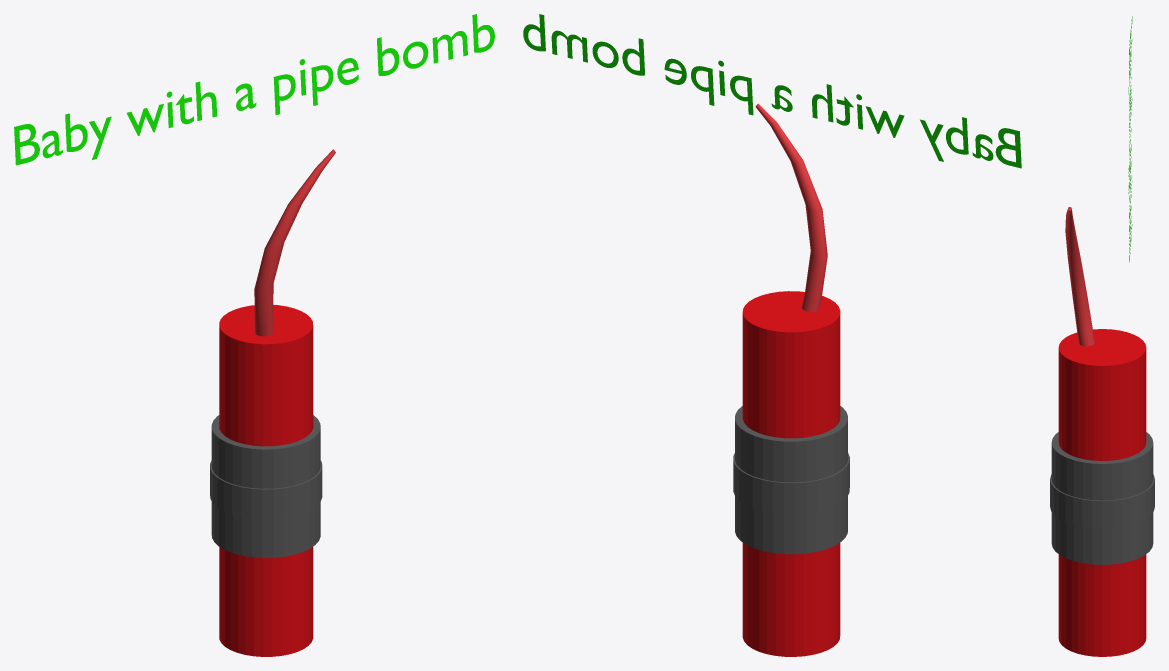
Rendered from pipebomb.fbx.
3 renders of one model, left to right at view 1: azimuth 30°, elevation 25°; view 2: azimuth 150°, elevation 25°; view 3: azimuth 270°, elevation 25°, orthographic. The views are drawn at different scales.
Parts seen in each view (by area): view 1: Cylinder; view 2: Cylinder; view 3: Cylinder.
Part boxes in pixels (left/top/right/bottom): Cylinder: left=14, top=14, right=494, bottom=656; Cylinder: left=523, top=14, right=1021, bottom=656; Cylinder: left=1050, top=16, right=1154, bottom=656.
Size of the model in its own units: 51.96 by 57.55 by 10.57.
